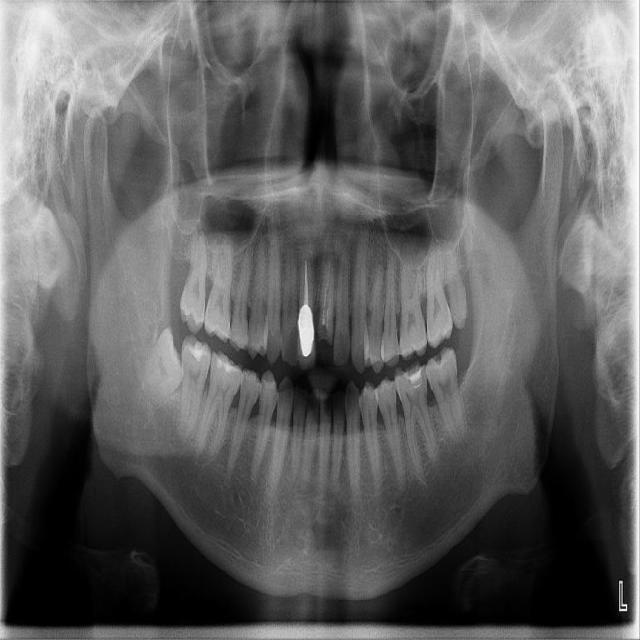52: (201, 349, 250, 394), (174, 334, 219, 377), (392, 359, 429, 403), (295, 317, 316, 370), (432, 347, 446, 365)
73: (318, 252, 335, 325), (298, 250, 315, 321), (577, 584, 585, 594)
BioHorizons Implant: (425, 240, 454, 349)
BioLife Implant: (440, 240, 472, 329)
Blue Sky Bio Implant: (423, 345, 468, 449)
Caries: (178, 220, 210, 333)
Implant: (176, 334, 213, 439)
Keystone Dental Implant: (139, 322, 190, 408)
